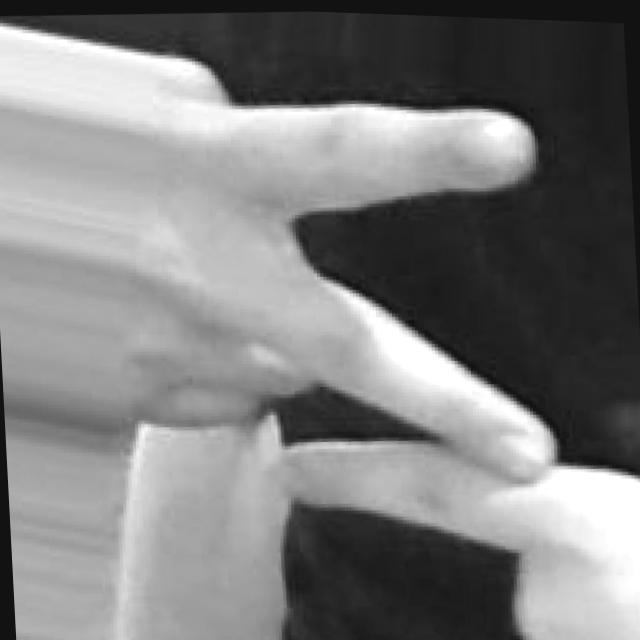Z: (124, 20, 640, 640)
